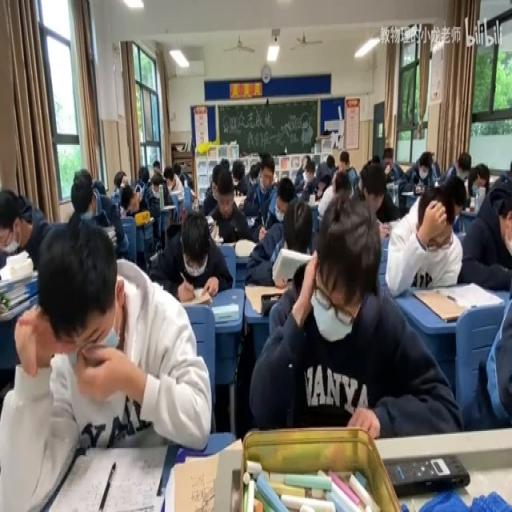calculator: (170, 453, 223, 512), (270, 244, 312, 284), (443, 282, 503, 308), (244, 281, 282, 313), (0, 266, 36, 292), (178, 287, 213, 306), (212, 302, 238, 322), (234, 236, 256, 256), (134, 214, 154, 228), (104, 223, 117, 243), (378, 219, 394, 233), (95, 209, 109, 225), (206, 216, 216, 235), (458, 206, 478, 215), (233, 194, 245, 208), (210, 232, 224, 244), (379, 232, 389, 246), (307, 196, 320, 206), (299, 192, 309, 205), (112, 185, 119, 203), (386, 181, 396, 192), (245, 215, 254, 226), (458, 216, 464, 232), (487, 175, 498, 183), (162, 204, 176, 210), (402, 191, 416, 196), (189, 188, 195, 199), (434, 178, 440, 186)
paper: (3, 218, 208, 509), (250, 194, 458, 440), (152, 205, 230, 300), (459, 165, 512, 290), (67, 168, 125, 259), (0, 186, 52, 270), (398, 148, 439, 209), (367, 160, 404, 224), (254, 170, 290, 234), (146, 168, 176, 222), (202, 160, 222, 214), (317, 182, 346, 219), (443, 150, 472, 186), (294, 155, 318, 195), (229, 157, 248, 199), (119, 184, 142, 218), (334, 151, 354, 185), (134, 165, 152, 199), (174, 161, 192, 189), (314, 162, 333, 188), (72, 166, 92, 190), (474, 172, 489, 192), (247, 162, 259, 186), (92, 179, 106, 196), (430, 158, 440, 180), (114, 171, 126, 189), (325, 154, 334, 170), (382, 148, 392, 162), (164, 174, 174, 188), (384, 168, 394, 182), (220, 156, 229, 168), (370, 154, 380, 164), (152, 160, 160, 170)
person: (384, 452, 470, 496), (414, 182, 424, 193)
